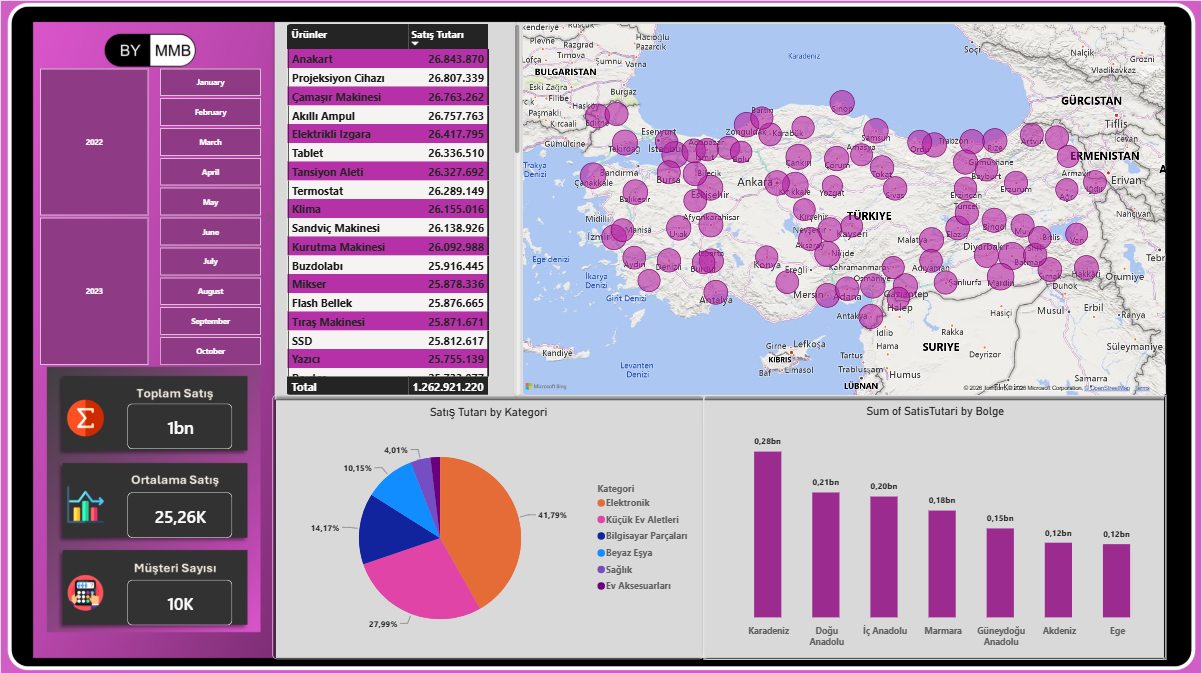

The dashboard page shown, as its layout file describes it:
{"tool":"powerbi","page":{"name":"Project1","canvas":[1920,1080],"ordinal":0},"visuals":[{"type":"slicer","fields":{"Values":["2022-2023.Tarih.Variation.Date Hierarchy.Year"]},"box":[42.2,105.4,212.6,477.9],"z":0},{"type":"slicer","fields":{"Values":["2022-2023.Tarih.Variation.Date Hierarchy.Month"]},"box":[233.7,105.4,200.3,477.9],"z":1000},{"type":"cardVisual","fields":{"Data":["Sum(2022-2023.SatisTutari)"]},"box":[202.1,644.8,168.7,73.8],"z":2000},{"type":"cardVisual","fields":{"Data":["Avg(2022-2023.SatisTutari)"]},"box":[202.1,785.4,168.7,73.8],"z":3000},{"type":"cardVisual","fields":{"Data":["Count(2022-2023.MusteriNumarasi)"]},"box":[202.1,925.9,168.7,73.8],"z":4000},{"type":"tableEx","fields":{"Values":["kategori.Urun","Sum(2022-2023.SatisTutari)"]},"box":[456.8,35.1,376,595.6],"z":5000},{"type":"pieChart","fields":{"Category":["kategori.Kategori"],"Y":["Sum(2022-2023.SatisTutari)"]},"box":[434,630.7,690.5,423.4],"z":6000},{"type":"columnChart","fields":{"Category":["bolge.Bolge"],"Y":["Sum(2022-2023.SatisTutari)"]},"box":[1124,630,740,424],"z":7000},{"type":"map","fields":{"Category":["bolge.İl"],"Size":["Sum(2022-2023.SatisTutari)"]},"box":[834,36,1030,596],"z":8000}]}

Visuals, with their boxes in screenshot pixels (x1, y1, x2, y2), scaled from the page's 1920x1080 canvas onto the 1202x673 screenshot:
slicer - 2022-2023.Tarih.Variation.Date Hierarchy.Year: bbox(26, 66, 160, 363)
slicer - 2022-2023.Tarih.Variation.Date Hierarchy.Month: bbox(146, 66, 272, 363)
cardVisual - Sum(2022-2023.SatisTutari): bbox(127, 402, 232, 448)
cardVisual - Avg(2022-2023.SatisTutari): bbox(127, 489, 232, 535)
cardVisual - Count(2022-2023.MusteriNumarasi): bbox(127, 577, 232, 623)
tableEx - kategori.Urun x Sum(2022-2023.SatisTutari): bbox(286, 22, 521, 393)
pieChart - kategori.Kategori x Sum(2022-2023.SatisTutari): bbox(272, 393, 704, 657)
columnChart - bolge.Bolge x Sum(2022-2023.SatisTutari): bbox(704, 393, 1167, 657)
map - bolge.İl x Sum(2022-2023.SatisTutari): bbox(522, 22, 1167, 394)
